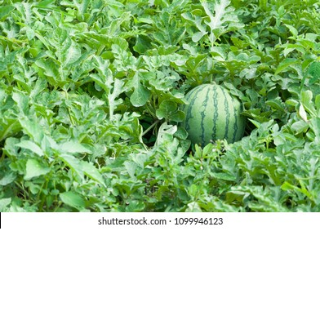dua_hau: (176, 78, 248, 148)
